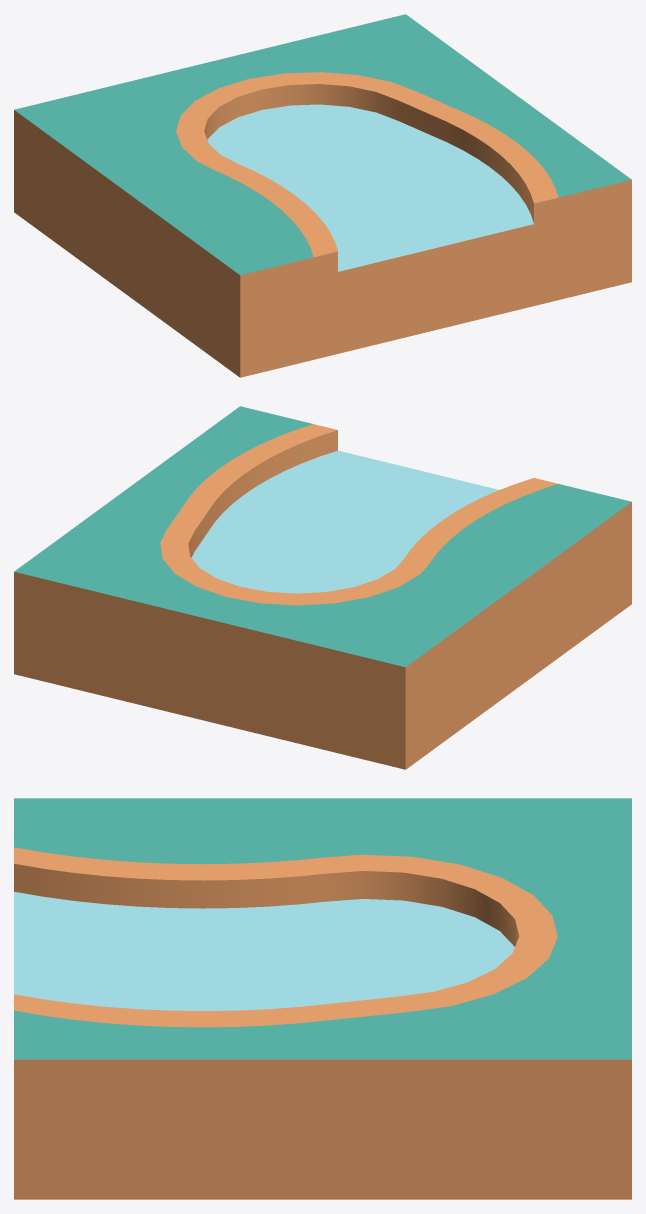
File: ground_dirtRiverEnd.fbx
The picture shows the model from 3 angles, top to bottom: view 1: azimuth 30°, elevation 25°; view 2: azimuth 150°, elevation 25°; view 3: azimuth 270°, elevation 25°; orthographic projection. The views are drawn at different scales.
Parts seen in each view (by area): view 1: ground_dirtRiverEnd; view 2: ground_dirtRiverEnd; view 3: ground_dirtRiverEnd.
Boxes of the visible parts, <box> form: ground_dirtRiverEnd: <box>14,14,631,377</box>; ground_dirtRiverEnd: <box>14,406,631,769</box>; ground_dirtRiverEnd: <box>14,798,631,1199</box>.
Bounding box in the file's own units: 10 × 2.5 × 10.
